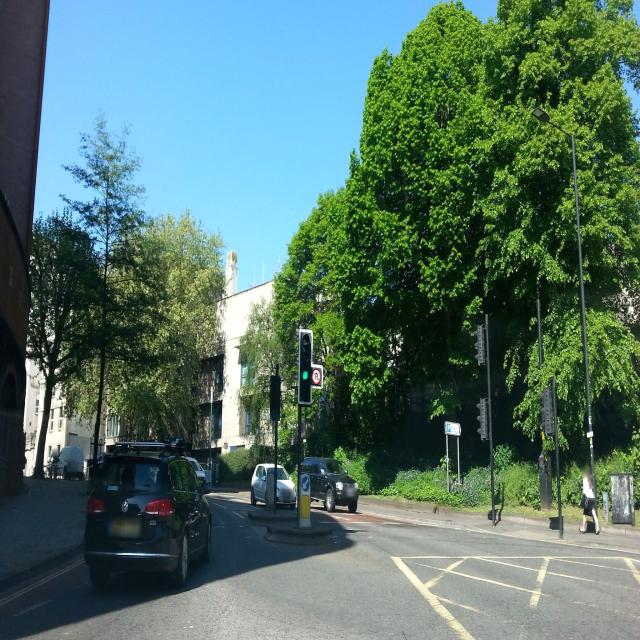car: (83, 440, 212, 589), (298, 455, 359, 513), (250, 462, 297, 510), (48, 445, 88, 480), (184, 456, 212, 491)
